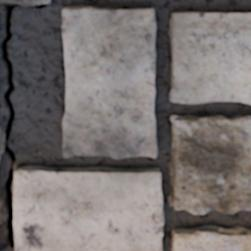brick: (62, 6, 156, 158), (13, 166, 163, 250), (166, 116, 250, 213), (169, 12, 250, 103), (171, 226, 250, 250), (0, 0, 49, 5), (0, 123, 4, 154), (0, 197, 2, 208)
crack: (0, 2, 20, 248), (33, 3, 46, 8)
